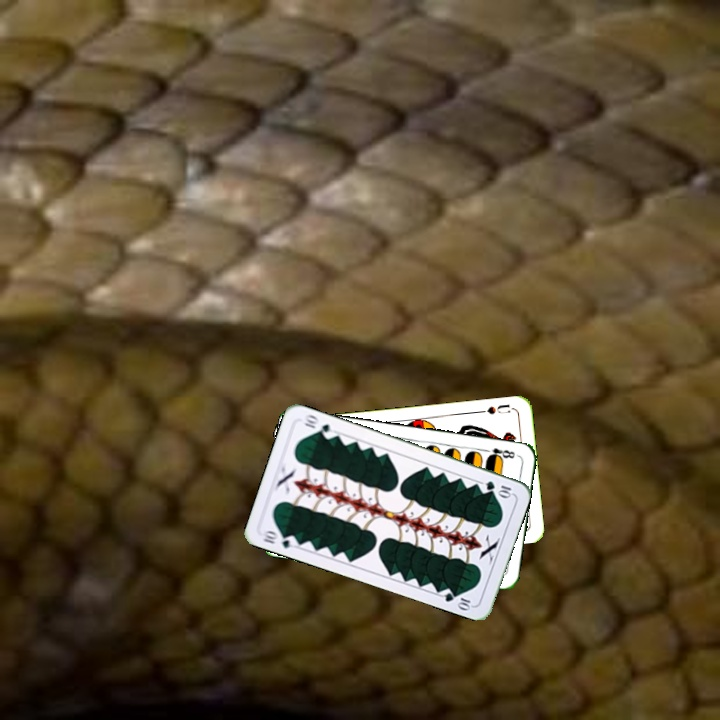E8: (480, 444, 517, 462)
G10: (259, 526, 300, 551), (482, 477, 515, 499)
SU: (475, 400, 516, 417)
